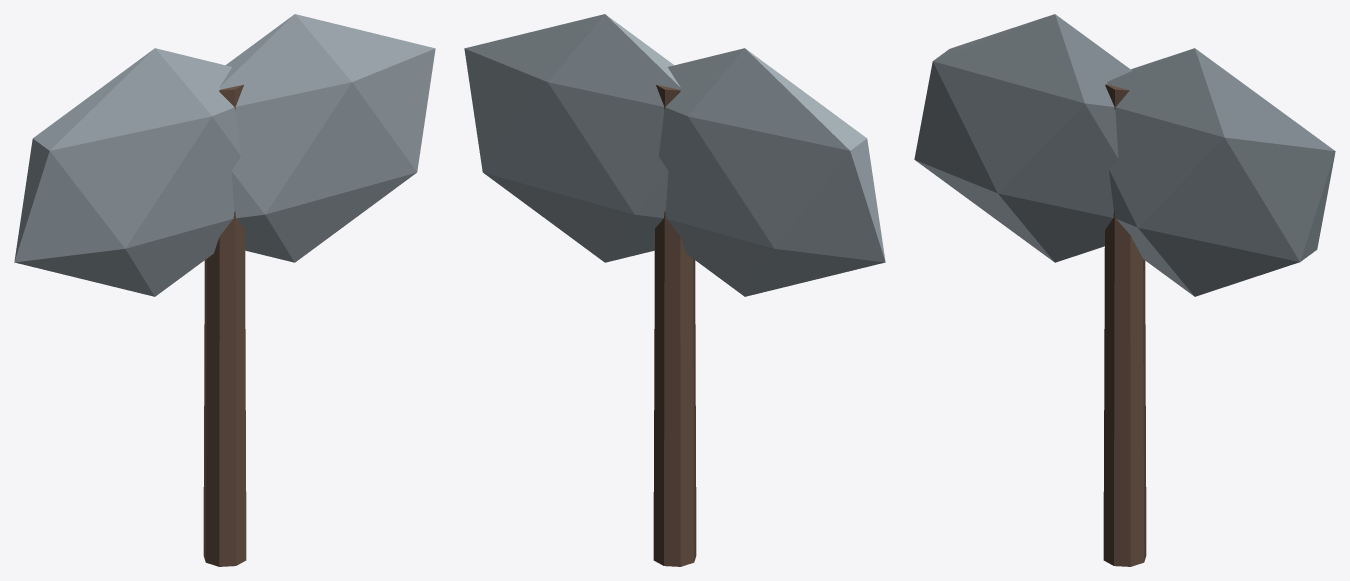
The model's file is SH10_DeathSpiral.fbx.
The picture shows the model from 3 angles, left to right: view 1: azimuth 30°, elevation 25°; view 2: azimuth 150°, elevation 25°; view 3: azimuth 330°, elevation 25°; orthographic projection.
Visible parts, largest first — view 1: SH10_DeathSpiral; view 2: SH10_DeathSpiral; view 3: SH10_DeathSpiral.
Part boxes in pixels (x1,y1,x2,y2): SH10_DeathSpiral: (14,14,435,566); SH10_DeathSpiral: (464,14,885,566); SH10_DeathSpiral: (914,14,1335,566).
Bounding box in the file's own units: 120 × 144 × 13.61.
